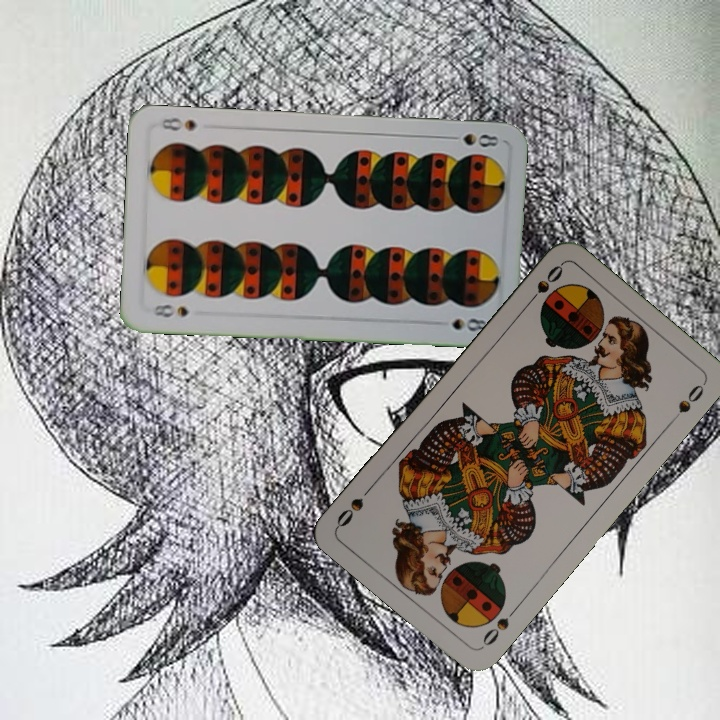S8: (442, 129, 501, 150), (149, 300, 192, 321)
SO: (521, 261, 566, 310), (477, 602, 521, 651)
